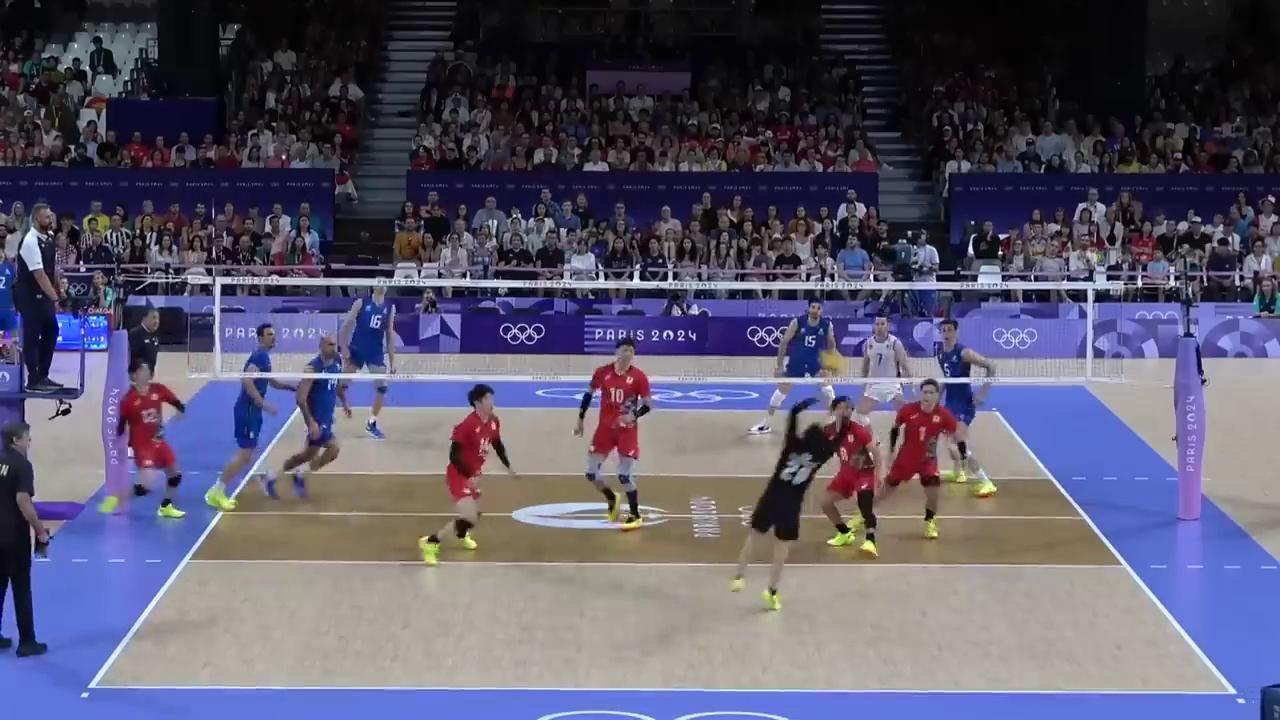ball: (818, 352, 845, 372)
